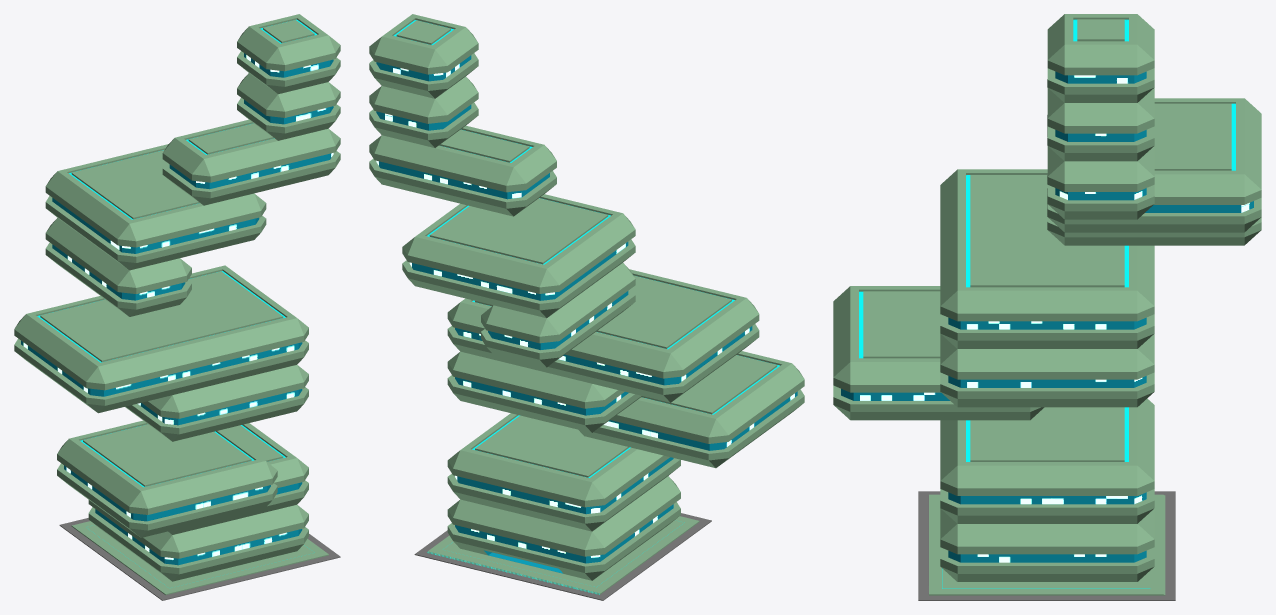
The model's file is Bina 17.fbx.
3 renders of one model, left to right at view 1: azimuth 30°, elevation 25°; view 2: azimuth 150°, elevation 25°; view 3: azimuth 270°, elevation 25°, orthographic. The views are drawn at different scales.
Visible parts, largest first — view 1: HD_1, HDStand_1; view 2: HD_1, HDStand_1; view 3: HD_1, HDStand_1.
Part boxes in pixels (left/top/right/bottom): HD_1: left=14, top=14, right=340, bottom=581; HDStand_1: left=59, top=518, right=340, bottom=600; HD_1: left=369, top=14, right=804, bottom=580; HDStand_1: left=414, top=513, right=711, bottom=600; HD_1: left=833, top=14, right=1261, bottom=581; HDStand_1: left=918, top=491, right=1175, bottom=600.
Size of the model in its own units: 64.23 by 96.66 by 64.23.
3 materials, 3 textured.
